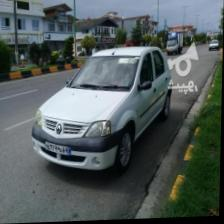plate: (45, 141, 73, 158)
